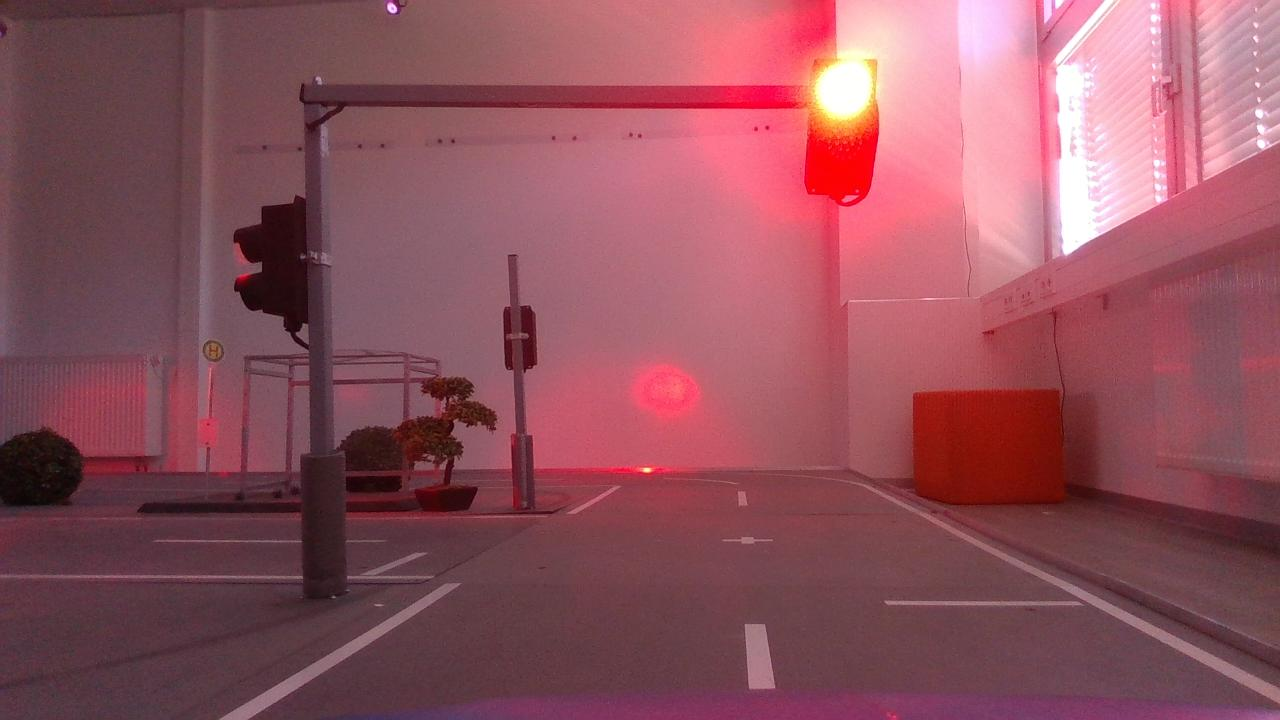traffic_light_red: (789, 44, 897, 217)
